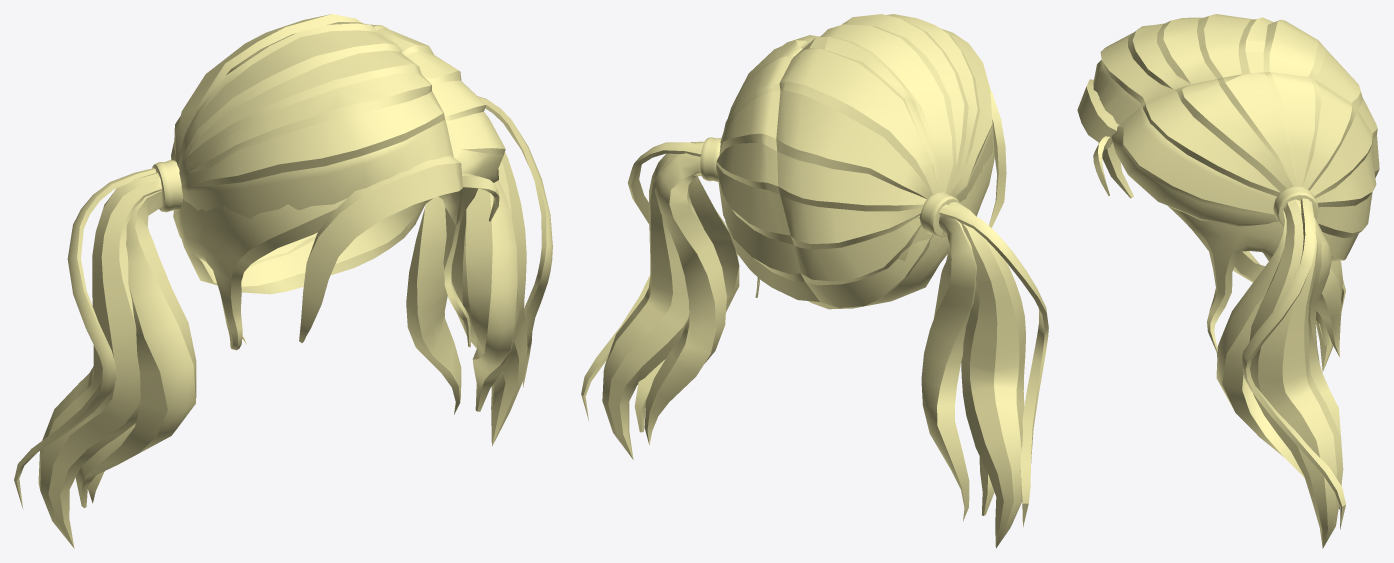
File: Default_Girl_Hair.fbx
3 renders of one model, left to right at view 1: azimuth 30°, elevation 25°; view 2: azimuth 150°, elevation 25°; view 3: azimuth 270°, elevation 25°, orthographic. The views are drawn at different scales.
Visible parts, largest first — view 1: polySurface1; view 2: polySurface1; view 3: polySurface1.
Part boxes in pixels (x1,y1,x2,y2): polySurface1: (14,14,552,548); polySurface1: (581,14,1048,548); polySurface1: (1077,14,1379,548).
Size of the model in its own units: 65.11 by 60.63 by 38.18.
